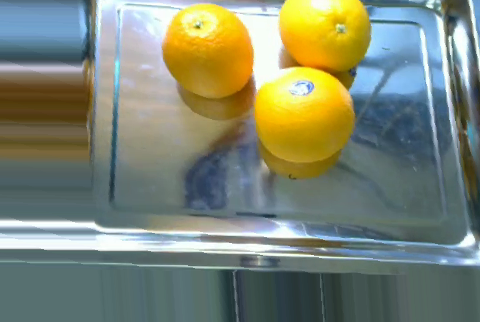Orange: (252, 66, 354, 163), (162, 1, 256, 98), (276, 1, 372, 72)
